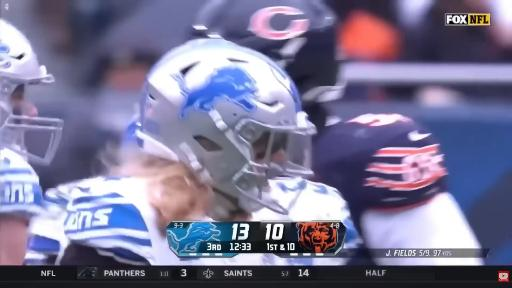Helmet: (136, 39, 315, 214), (188, 0, 345, 132), (0, 20, 62, 164)
Jersey: (313, 114, 480, 252), (64, 178, 305, 265), (25, 183, 75, 264), (0, 148, 43, 219)
Player: (190, 0, 482, 265), (58, 39, 357, 265), (0, 20, 62, 265), (25, 183, 76, 265)
